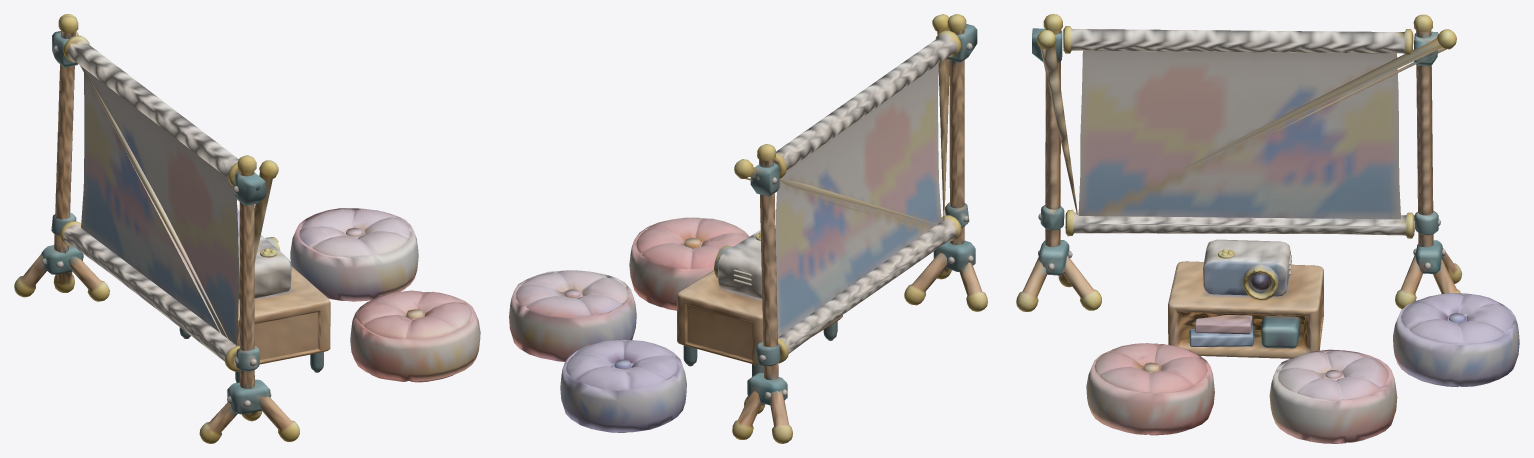
Rendered from cinema.glb.
The picture shows the model from 3 angles, left to right: view 1: azimuth 30°, elevation 25°; view 2: azimuth 150°, elevation 25°; view 3: azimuth 270°, elevation 25°; orthographic projection.
Parts seen in each view (by area): view 1: SM_cinema; view 2: SM_cinema; view 3: SM_cinema.
Boxes of the visible parts, box(x1,y1,x2,y2) form: SM_cinema: box(14, 14, 480, 443); SM_cinema: box(509, 14, 987, 443); SM_cinema: box(1016, 14, 1519, 443).
Bounding box in the file's own units: 1.19 × 1 × 1.52.
